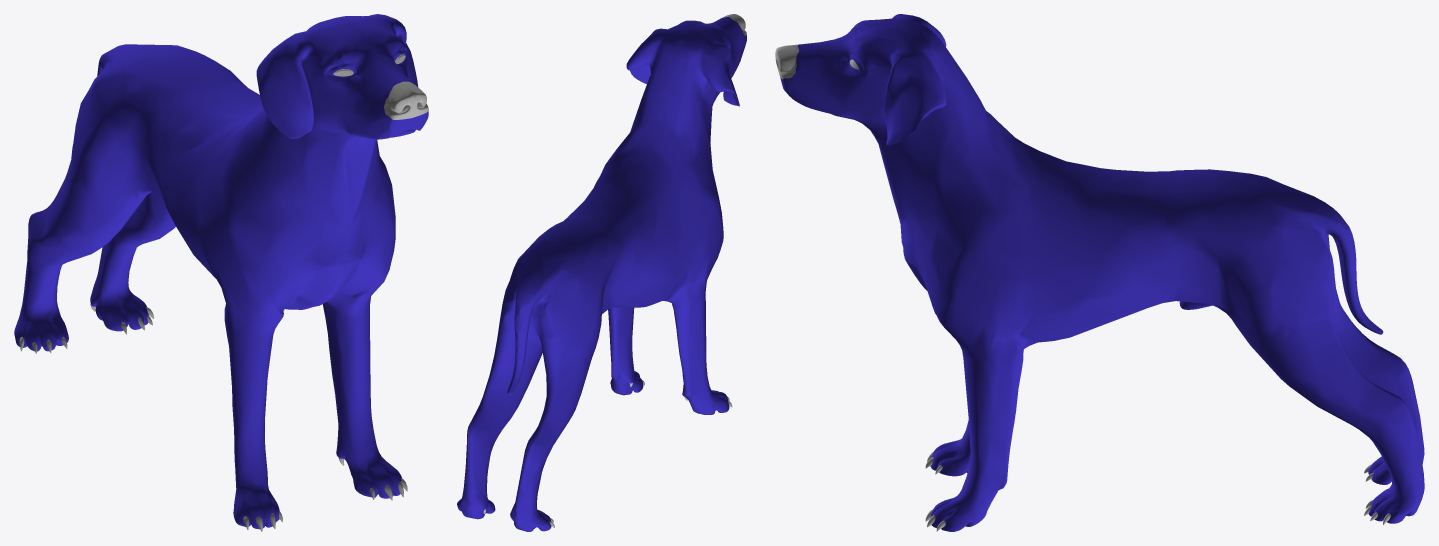
The model's file is dog.obj.
3 views of the same model, side by side, from view 1: azimuth 30°, elevation 25°; view 2: azimuth 150°, elevation 25°; view 3: azimuth 270°, elevation 25° (orthographic). The views are drawn at different scales.
Parts seen in each view (by area): view 1: Dog_0.003, Dog_0.006, Dog_0, Dog_0.004, Dog_0.001, Dog_0.005, Dog_0.002, Paws_1; view 2: Dog_0.003, Dog_0.006, Dog_0.005, Dog_0, Dog_0.001, Dog_0.004; view 3: Dog_0.006, Dog_0.005, Dog_0.004, Dog_0.003, Dog_0, Dog_0.001.
Boxes of the visible parts, x1,y1,x2,y2 form: Dog_0.003: [71, 17, 411, 340]; Dog_0.006: [133, 14, 428, 317]; Dog_0: [14, 150, 145, 351]; Dog_0.004: [322, 302, 403, 498]; Dog_0.001: [224, 318, 279, 529]; Dog_0.005: [90, 192, 175, 331]; Dog_0.002: [384, 81, 428, 119]; Paws_1: [19, 304, 407, 531]; Dog_0.003: [508, 17, 746, 394]; Dog_0.006: [497, 17, 727, 394]; Dog_0.005: [457, 338, 542, 519]; Dog_0: [510, 350, 594, 531]; Dog_0.001: [671, 295, 729, 414]; Dog_0.004: [608, 307, 643, 395]; Dog_0.006: [780, 27, 1383, 365]; Dog_0.005: [1232, 309, 1424, 523]; Dog_0.004: [930, 355, 1023, 531]; Dog_0.003: [798, 14, 1382, 330]; Dog_0: [1331, 275, 1424, 484]; Dog_0.001: [930, 420, 970, 476].
Bounding box in the file's own units: 1368 × 3981 × 4992.
